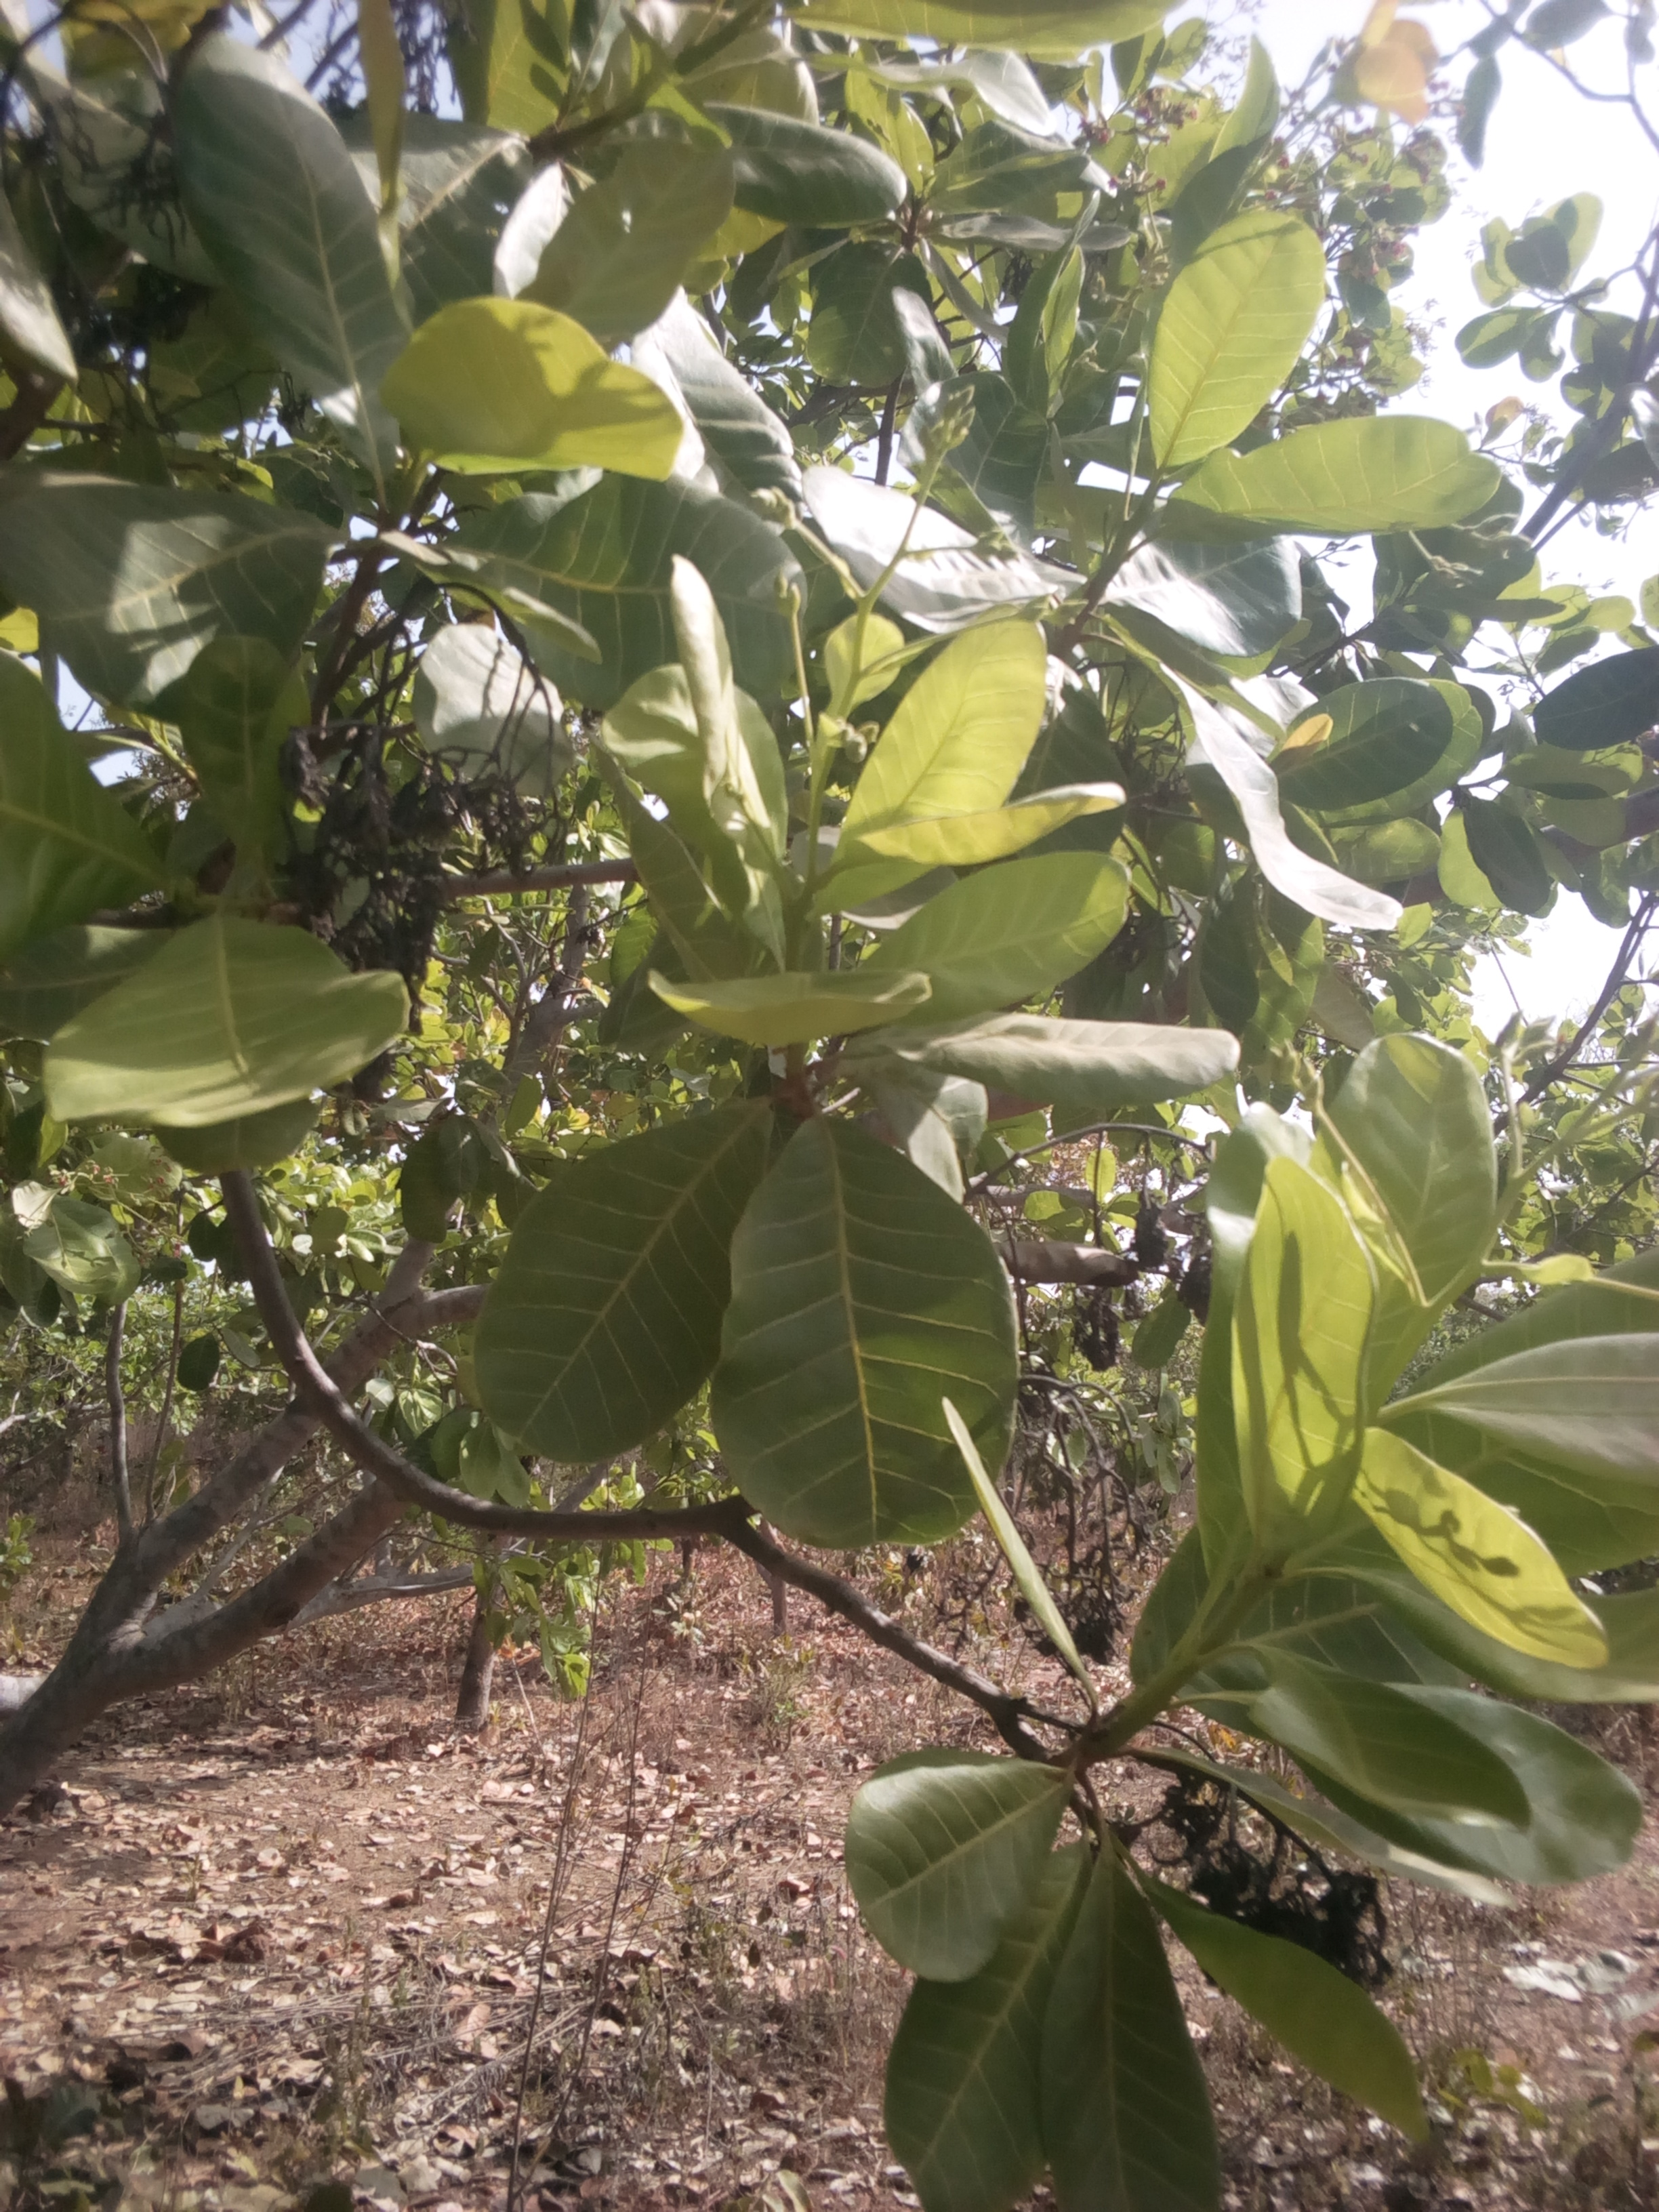Dessèchement des bourgeons: (352, 580, 549, 948), (1159, 1766, 1412, 1991), (26, 19, 183, 350), (1091, 1127, 1209, 1360)
